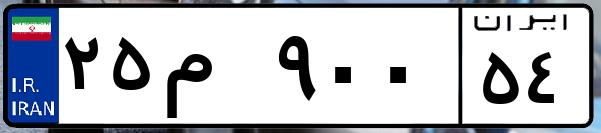0: (385, 28, 445, 110), (330, 28, 385, 110)
2: (57, 26, 110, 100)
4: (525, 38, 570, 115)
5: (475, 38, 525, 113), (110, 28, 158, 98)
9: (270, 28, 330, 110)
م: (158, 20, 270, 120)
